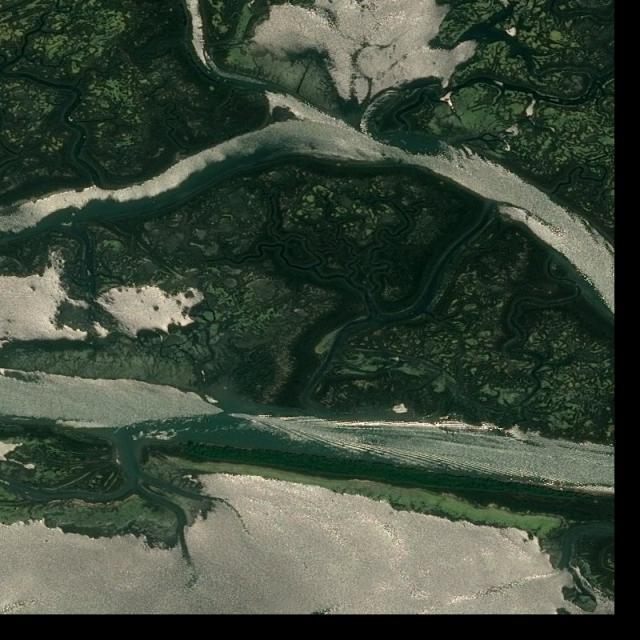ship: (228, 414, 233, 417)
